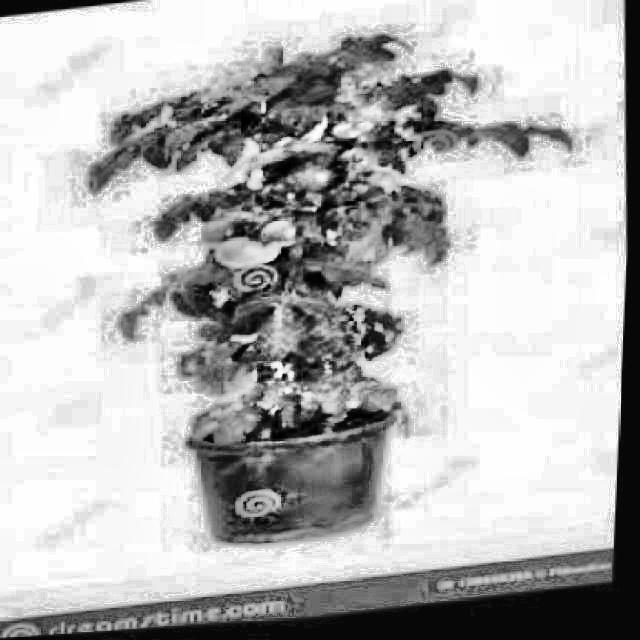plants: (59, 9, 590, 568)
